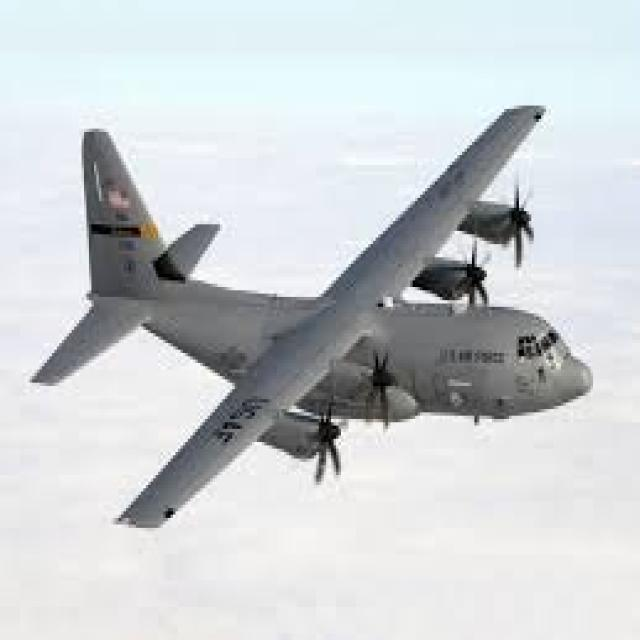C130: (33, 80, 640, 562)
